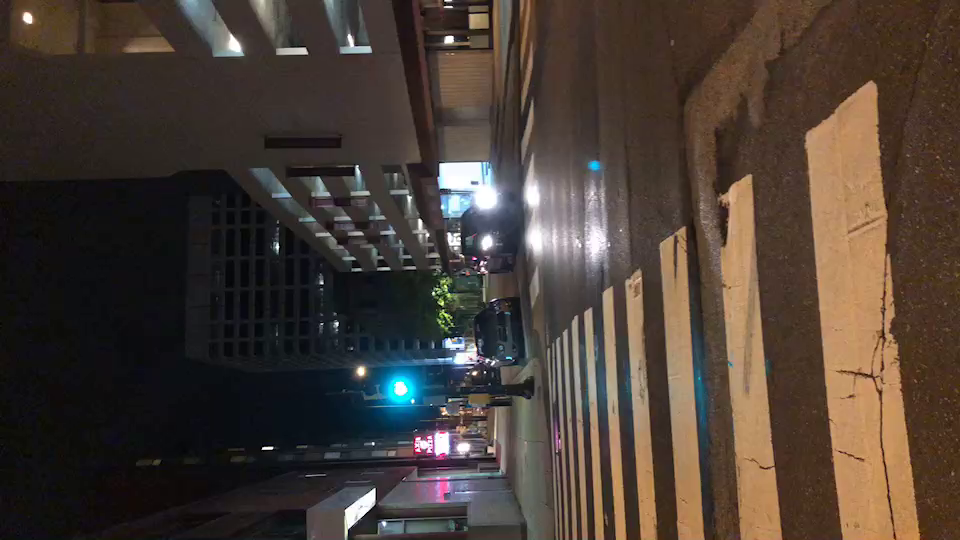l: (453, 184, 525, 273)
